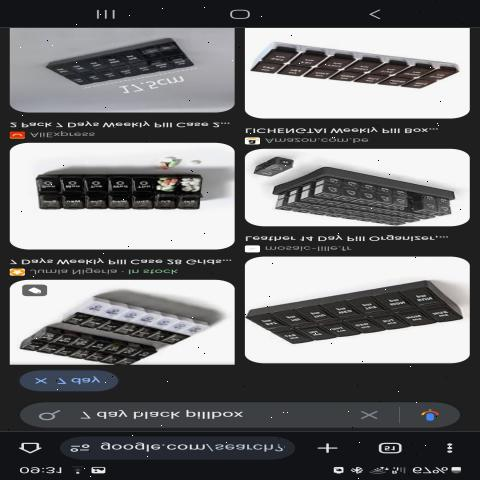PillBox: (246, 272, 466, 356), (253, 32, 460, 95), (33, 157, 226, 223), (24, 34, 213, 98), (14, 329, 174, 364)
